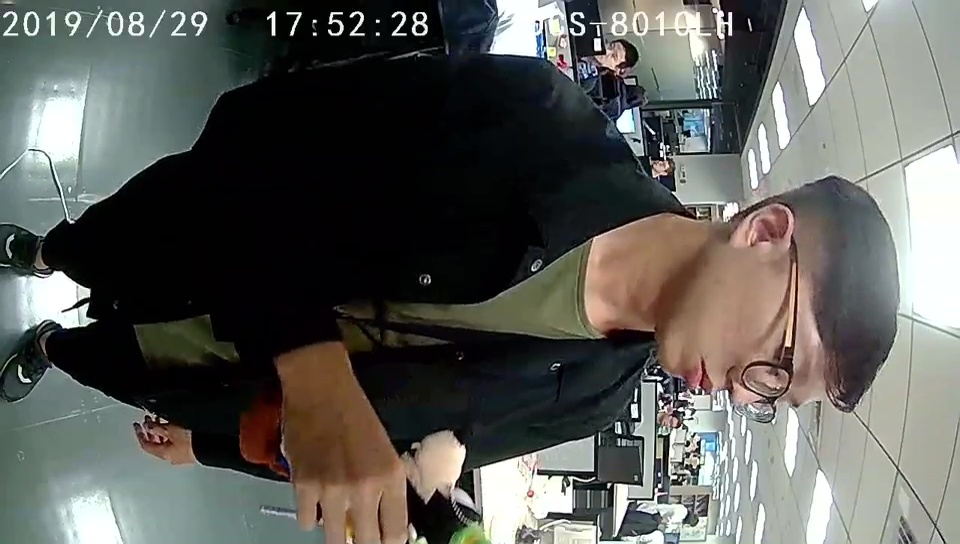goofy: (241, 392, 493, 544)
